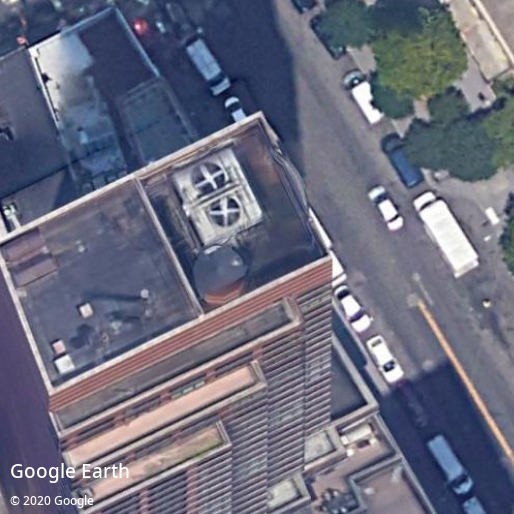Vent: (207, 196, 242, 228), (192, 162, 226, 193)
